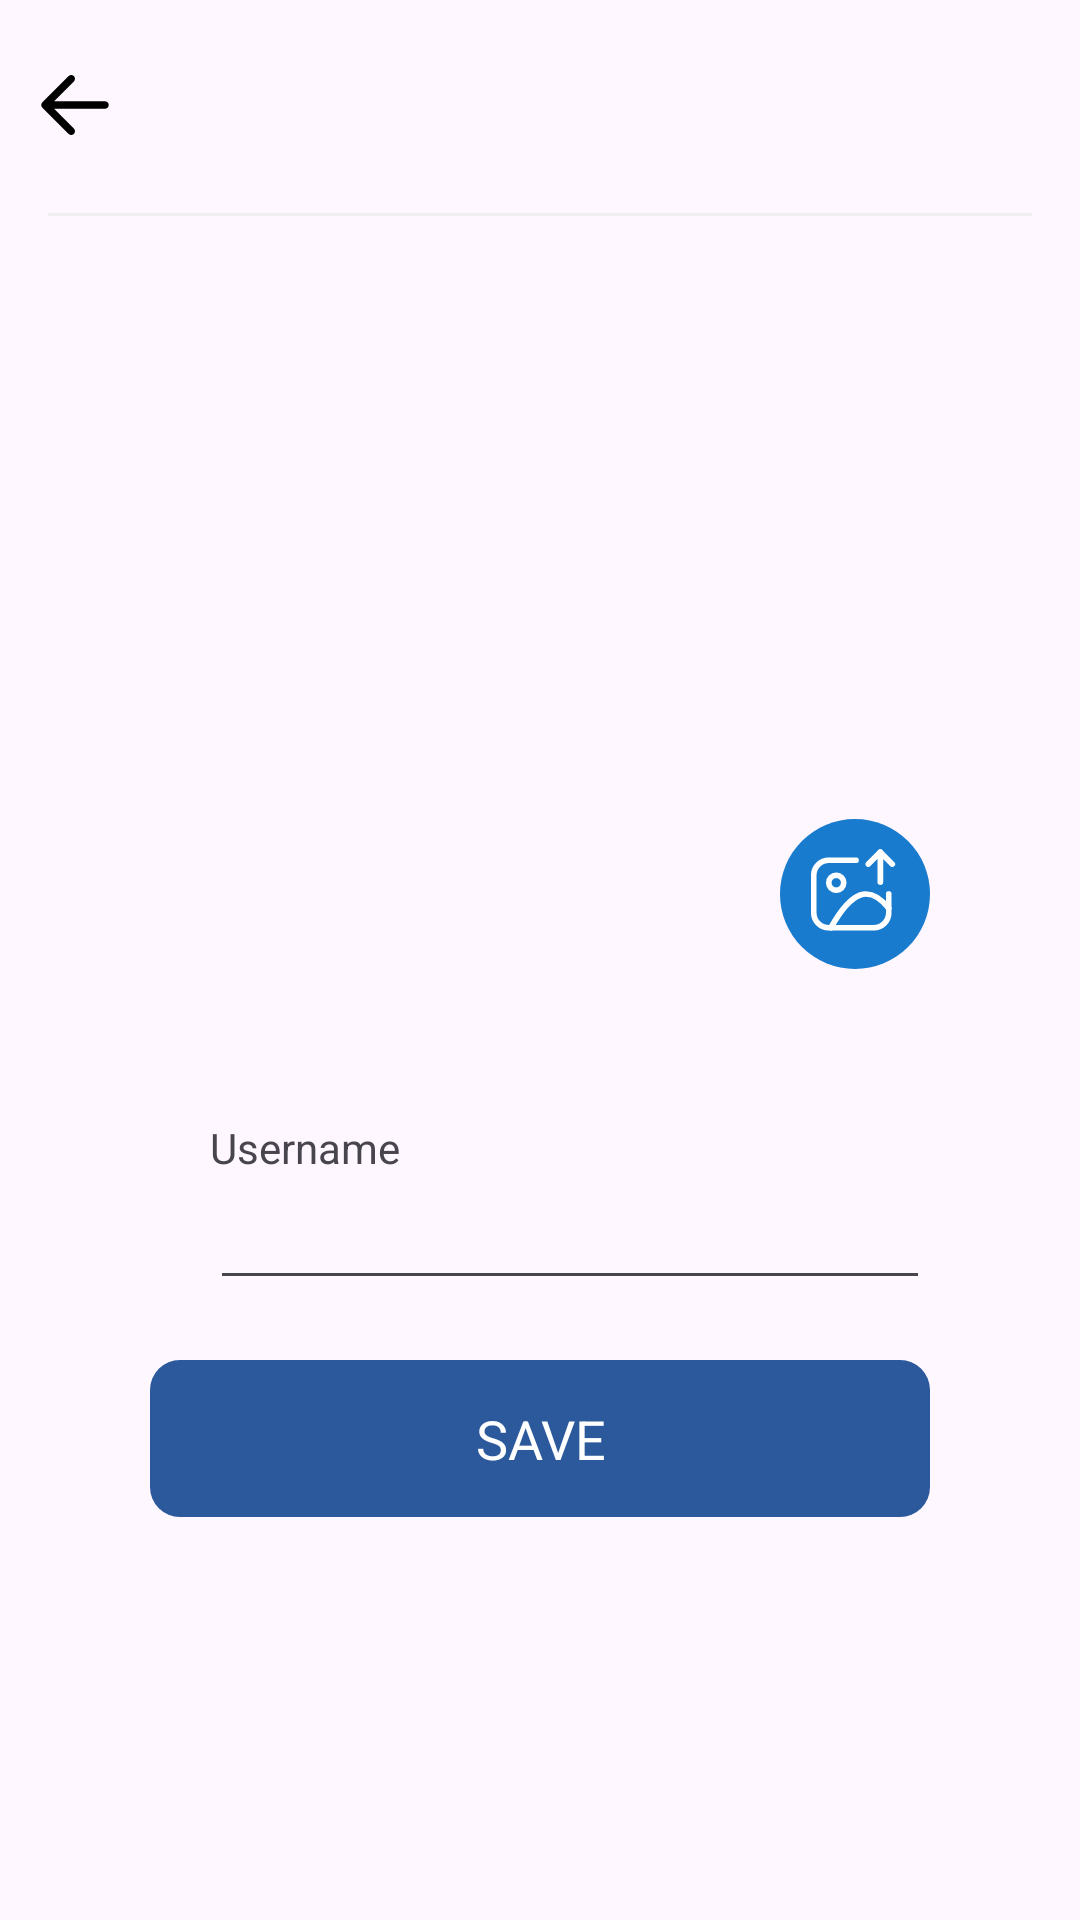

Locate icon controls on the screen. Image size 1080×1920, boxes as {"x1": x1, "y1": y1, "x2": x2, "y2": y2}.
left arrow: {"x1": 41, "y1": 75, "x2": 109, "y2": 135}
photoupload: {"x1": 811, "y1": 849, "x2": 896, "y2": 931}
